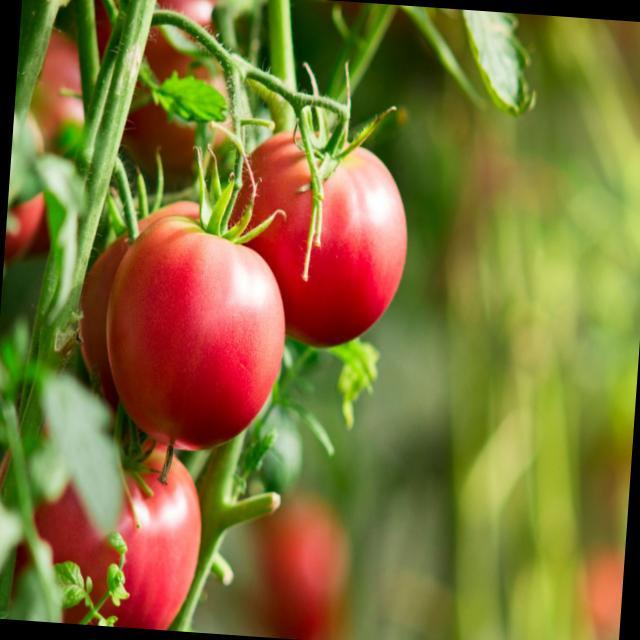TOMATO: (99, 210, 308, 453), (233, 115, 414, 352), (46, 440, 208, 632), (145, 0, 241, 143), (260, 489, 350, 628), (36, 30, 88, 130)
